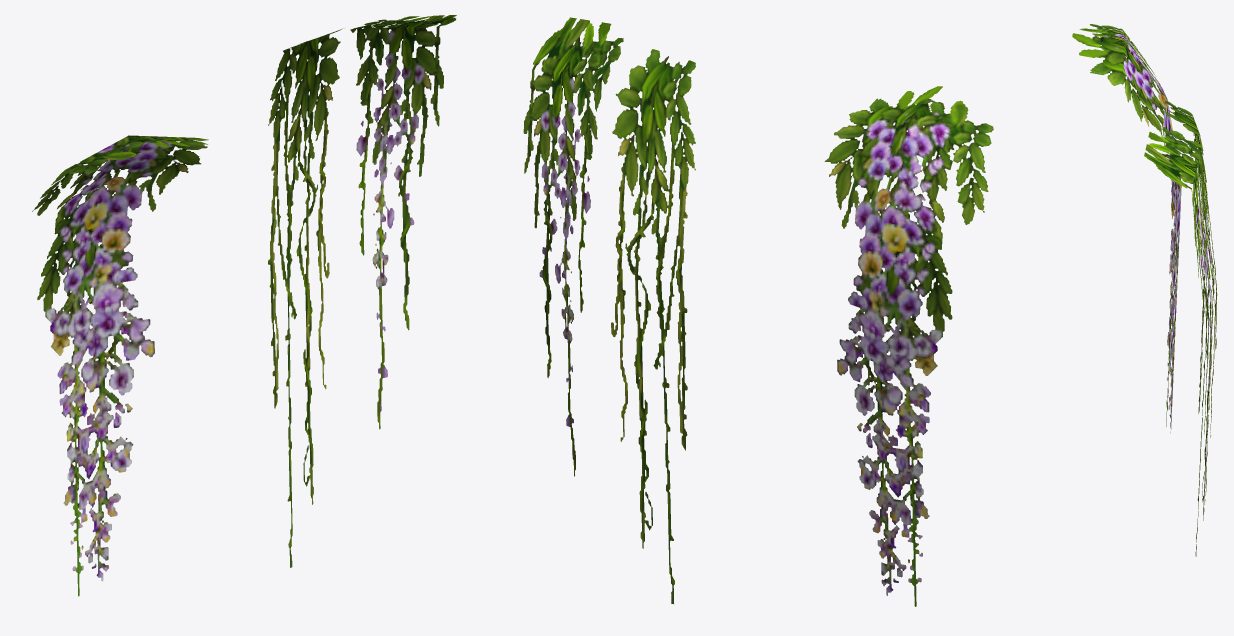
The model's file is teng_002.FBX.
The picture shows the model from 3 angles, left to right: view 1: azimuth 30°, elevation 25°; view 2: azimuth 150°, elevation 25°; view 3: azimuth 270°, elevation 25°; orthographic projection. The views are drawn at different scales.
Parts seen in each view (by area): view 1: teng_002_c, teng_002_a, teng_002_b; view 2: teng_002_c, teng_002_b, teng_002_a; view 3: teng_002_c, teng_002_a, teng_002_b.
Boxes of the visible parts, x1,y1,x2,y2 form: teng_002_c: (32, 135, 208, 596); teng_002_a: (350, 15, 456, 429); teng_002_b: (268, 28, 342, 567); teng_002_c: (824, 86, 993, 606); teng_002_b: (611, 49, 695, 603); teng_002_a: (523, 17, 623, 476); teng_002_c: (1072, 24, 1181, 433); teng_002_a: (1144, 127, 1215, 501); teng_002_b: (1165, 100, 1217, 556).
Bounding box in the file's own units: 348 × 405 × 121.
